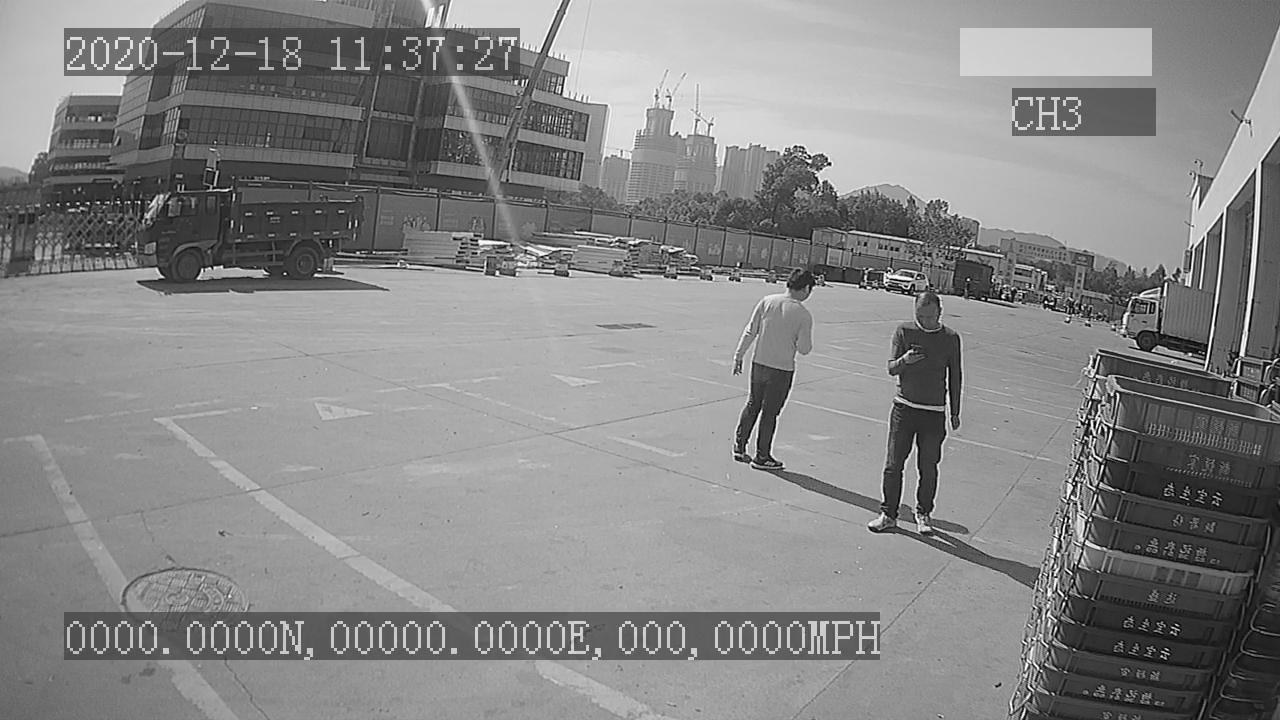person: (864, 289, 967, 540), (721, 261, 823, 473)
